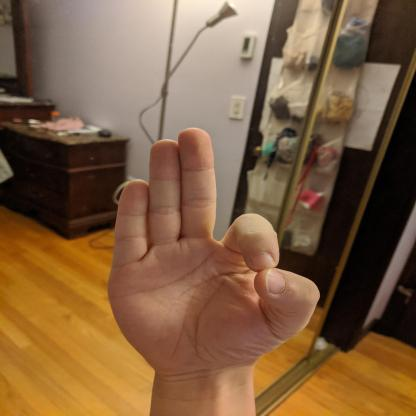F: (108, 127, 319, 380)
